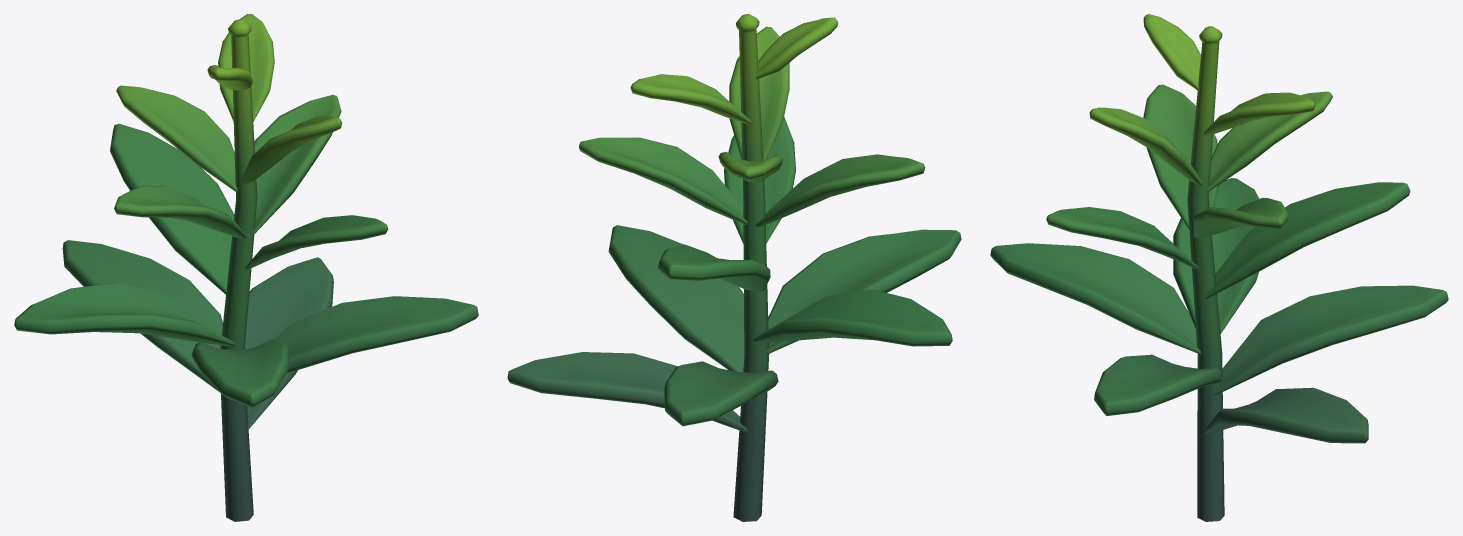
The model's file is Plants_039.fbx.
3 renders of one model, left to right at view 1: azimuth 30°, elevation 25°; view 2: azimuth 150°, elevation 25°; view 3: azimuth 270°, elevation 25°, orthographic. The views are drawn at different scales.
Visible parts, largest first — view 1: Plants.039; view 2: Plants.039; view 3: Plants.039.
Boxes of the visible parts, x1,y1,x2,y2 form: Plants.039: (14, 14, 478, 521); Plants.039: (507, 14, 961, 521); Plants.039: (990, 14, 1448, 521).
Bounding box in the file's own units: 683 × 810 × 687.
